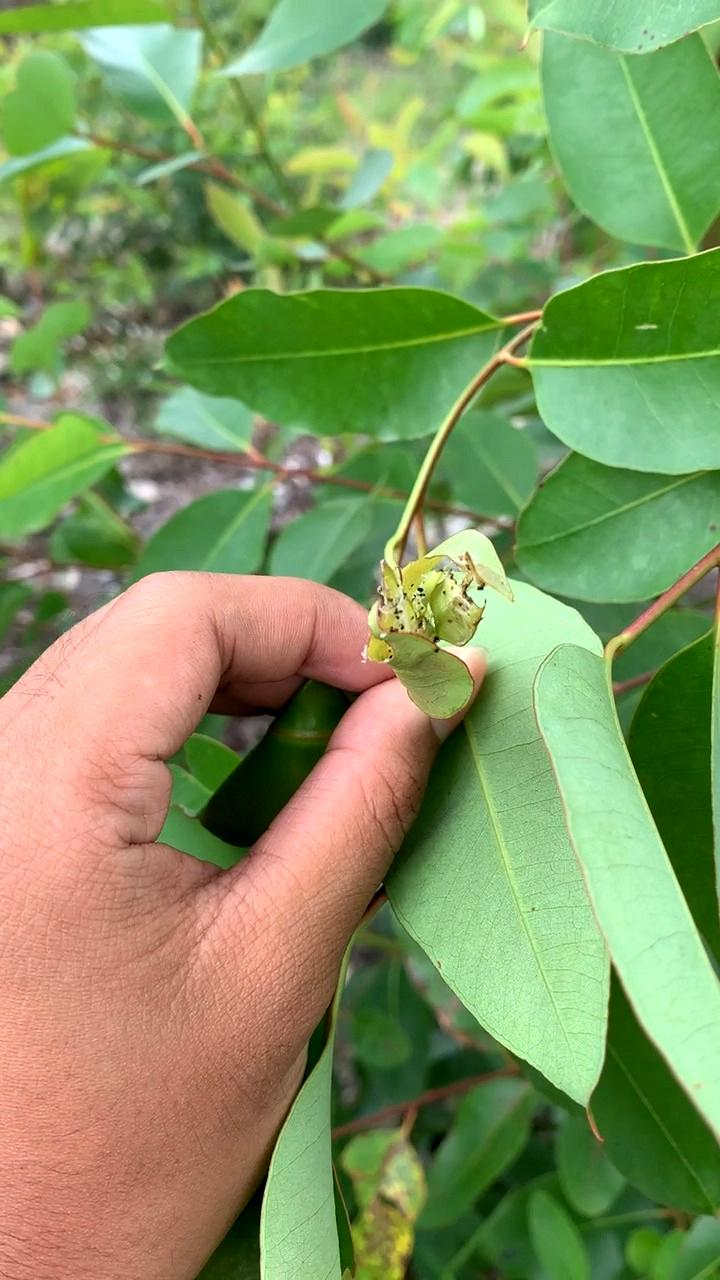Leaf Roller - Leaf: (355, 500, 523, 751)
